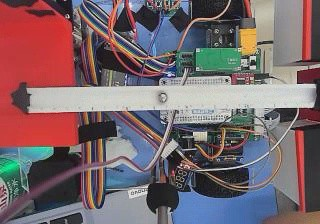ironball: (157, 92, 166, 102)
